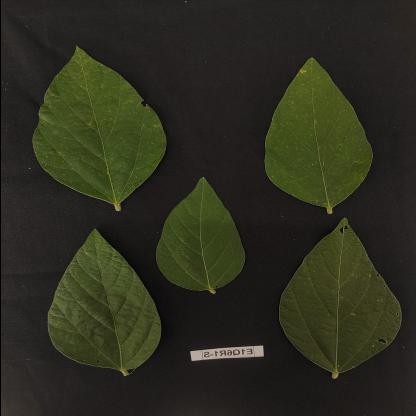label: (185, 346, 260, 370)
leaflets: (249, 32, 387, 208), (13, 57, 169, 210), (40, 224, 172, 400), (286, 216, 410, 386), (154, 177, 246, 295)
